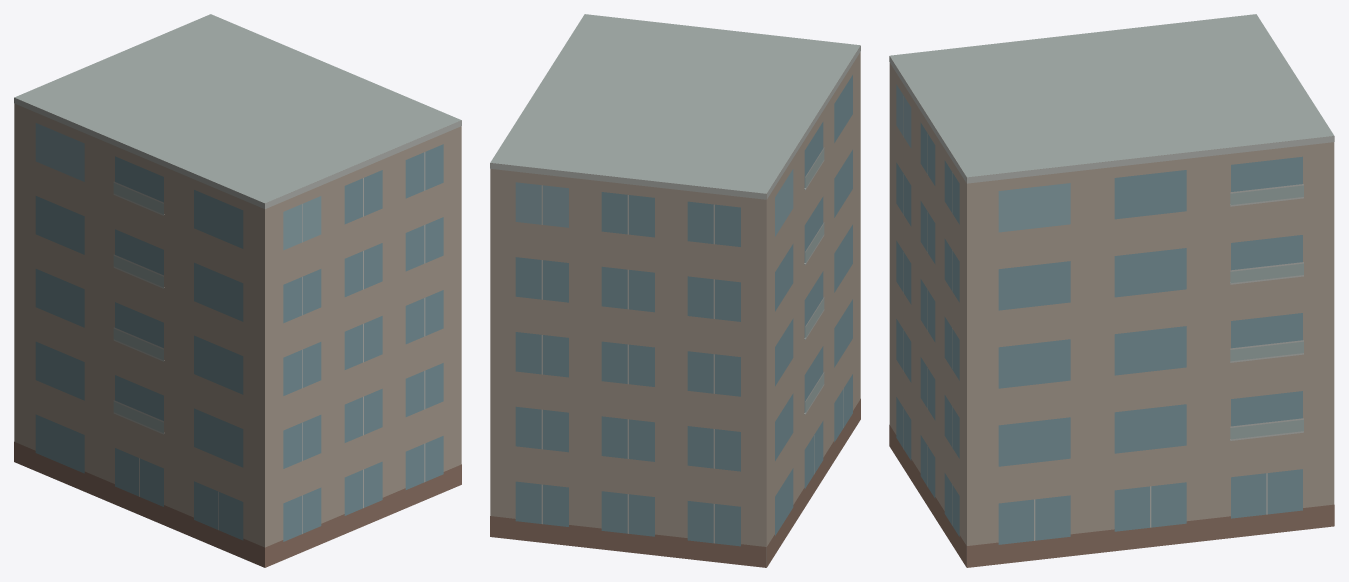
The model's file is survey-upis-32935706.glb.
3 renders of one model, left to right at view 1: azimuth 30°, elevation 25°; view 2: azimuth 150°, elevation 25°; view 3: azimuth 270°, elevation 25°, orthographic. The views are drawn at different scales.
Visible parts, largest first — view 1: survey-upis-32935706.tmp; view 2: survey-upis-32935706.tmp; view 3: survey-upis-32935706.tmp.
Part boxes in pixels (left/top/right/bottom): survey-upis-32935706.tmp: left=14, top=14, right=461, bottom=567; survey-upis-32935706.tmp: left=490, top=14, right=860, bottom=567; survey-upis-32935706.tmp: left=889, top=14, right=1334, bottom=567.
Bounding box in the file's own units: 13.69 × 15.25 × 15.76.
